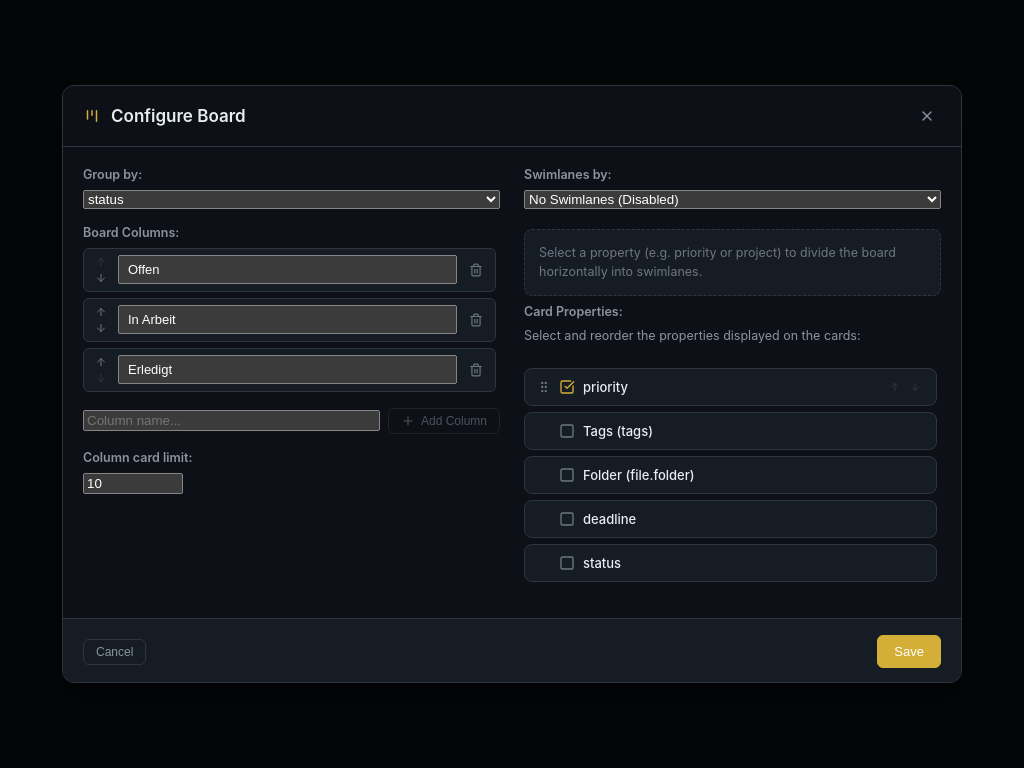
Test case: Base Kanban Board View (`type: board`) › allows selecting and reordering card content properties (view.order) in BaseBoardConfigModal and renders them on BaseBoardCard
Expected: the element with class "base-board-card-properties-section" is shown, x1=524 y1=304 x2=941 y2=582
Expected: the checkbox with class "card-prop-checkbox" next to "deadline" is shown, x1=559 y1=511 x2=575 y2=527
# Toggle 'tags' and 'deadline' on
Click the checkbox with class "card-prop-checkbox" next to "Tags (tags)".
click(567, 431)  # box x1=559 y1=423 x2=575 y2=439
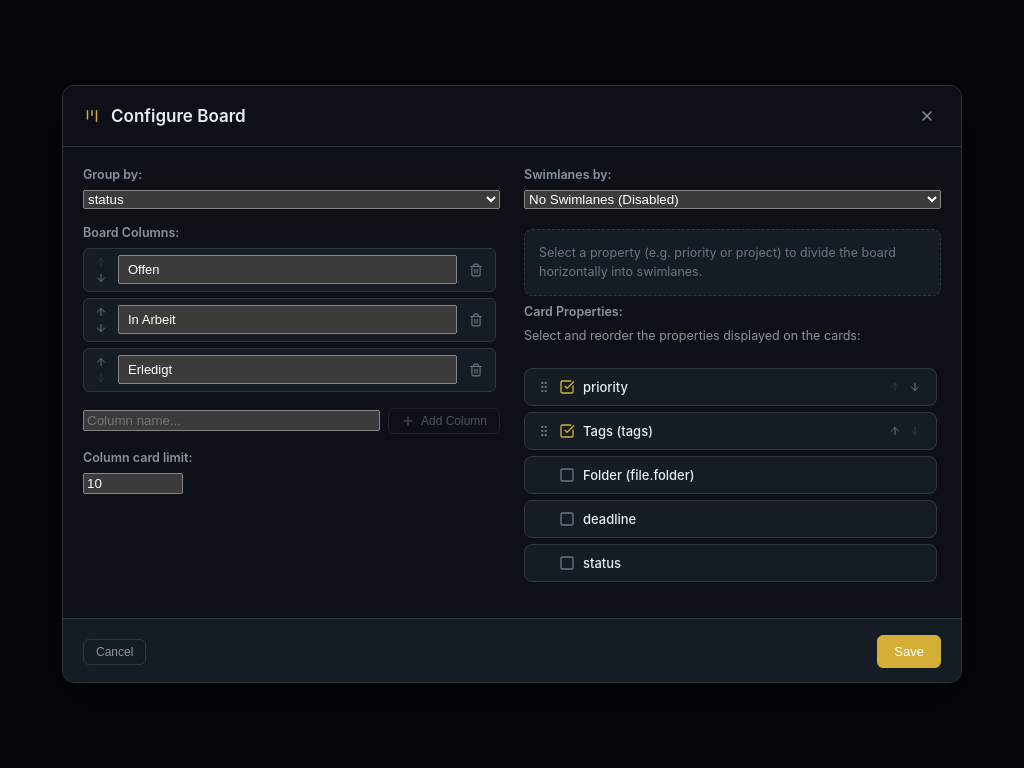
Click the checkbox with class "card-prop-checkbox" next to "deadline".
click(567, 519)  # box x1=559 y1=511 x2=575 y2=527
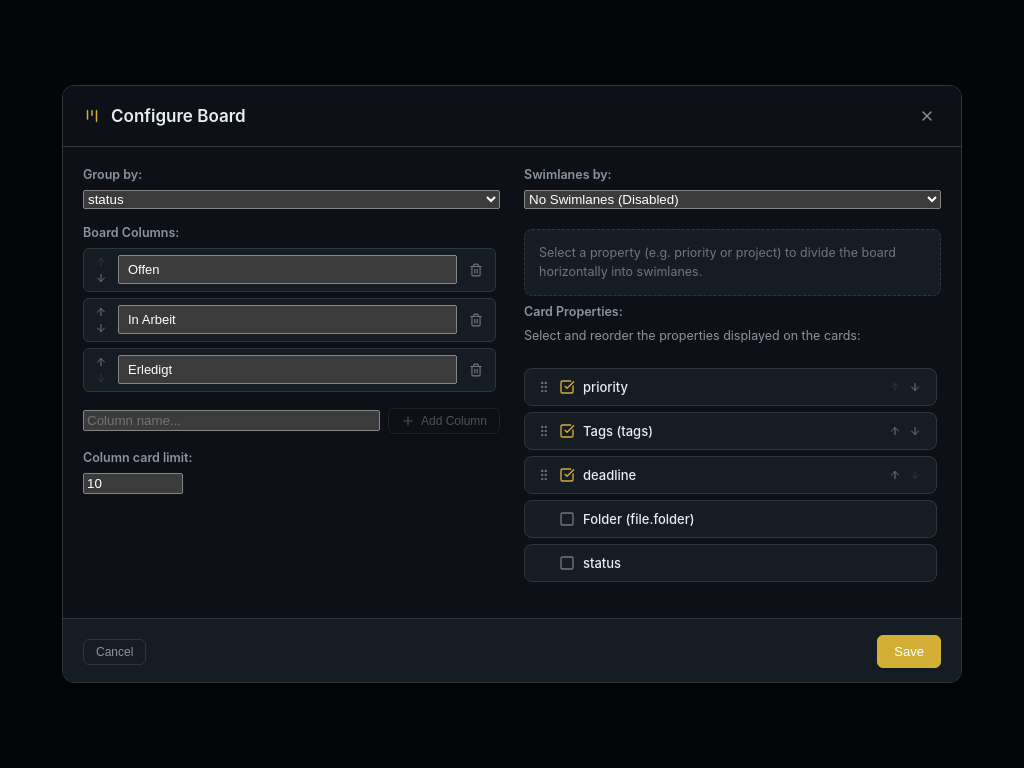
Expected: the element with class "base-card-prop-config-item" showing "Tags (tags)" is shown, x1=524 y1=412 x2=937 y2=450
Result: the button with class "card-prop-move-up" in the row of "Tags (tags)" is shown
Click the button with class "card-prop-move-up" in the row of "Tags (tags)".
click(895, 431)  # box x1=886 y1=424 x2=904 y2=438
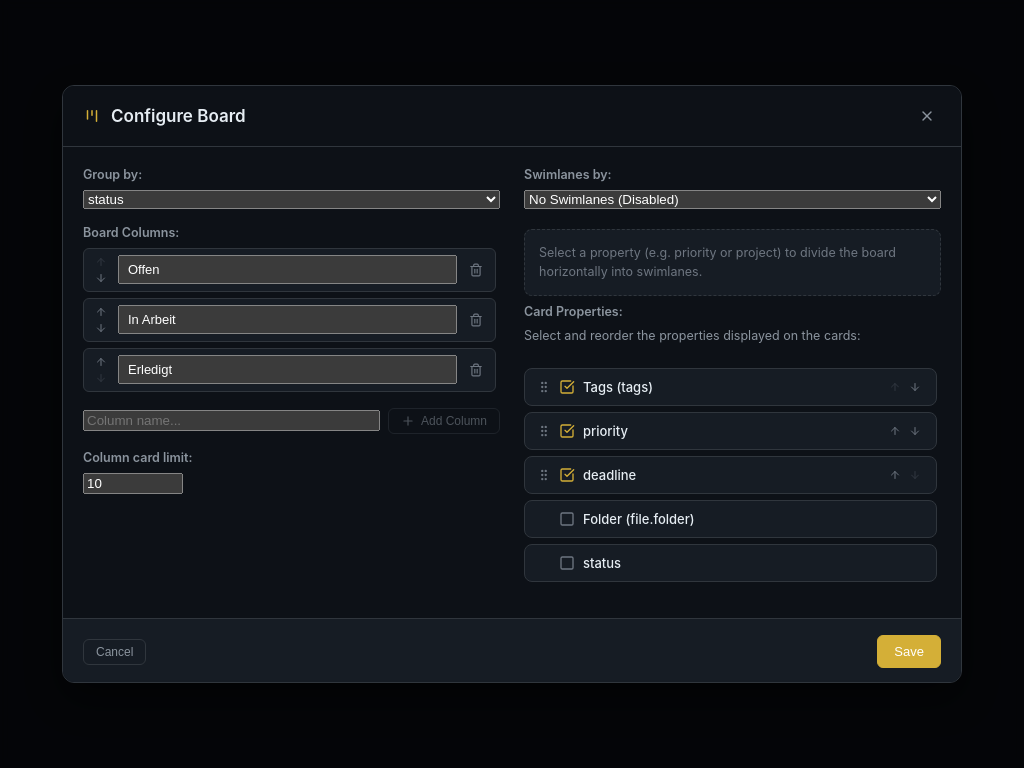
# Save modal
Click the button "Save".
click(909, 652)  # box x1=877 y1=635 x2=941 y2=668
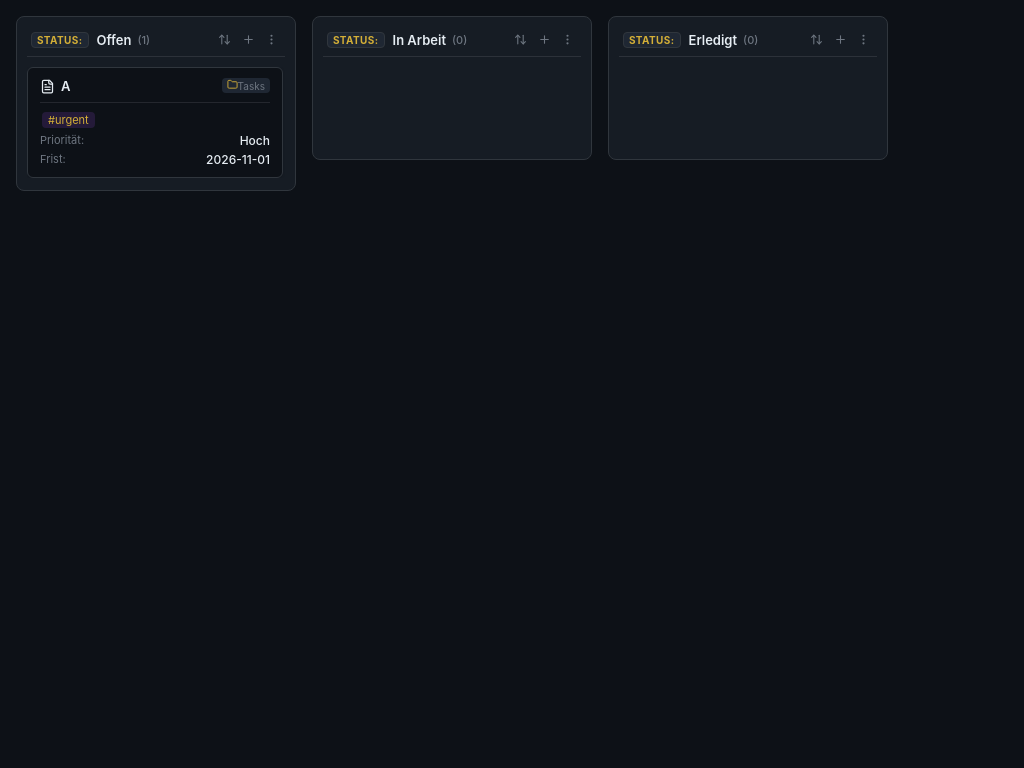
Result: the element with class "base-board-card" shows "#urgent" at x1=27 y1=67 x2=283 y2=178
Result: the element with class "base-board-card" shows "Priorität:" at x1=27 y1=67 x2=283 y2=178
Result: the element with class "base-board-card" shows "Hoch" at x1=240 y1=133 x2=270 y2=148
